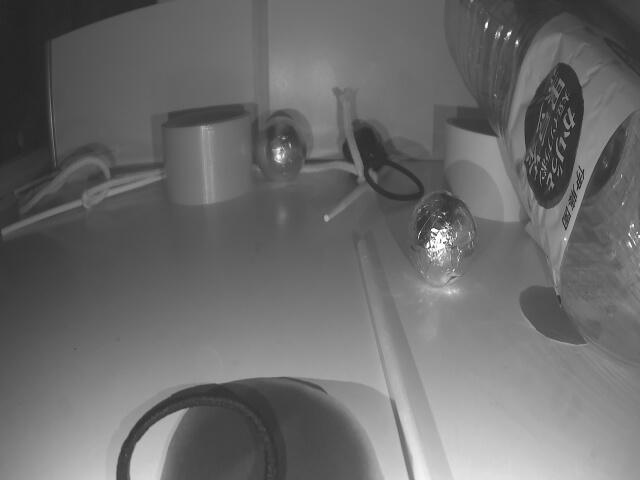Live: (411, 192, 475, 289), (261, 114, 307, 183)
